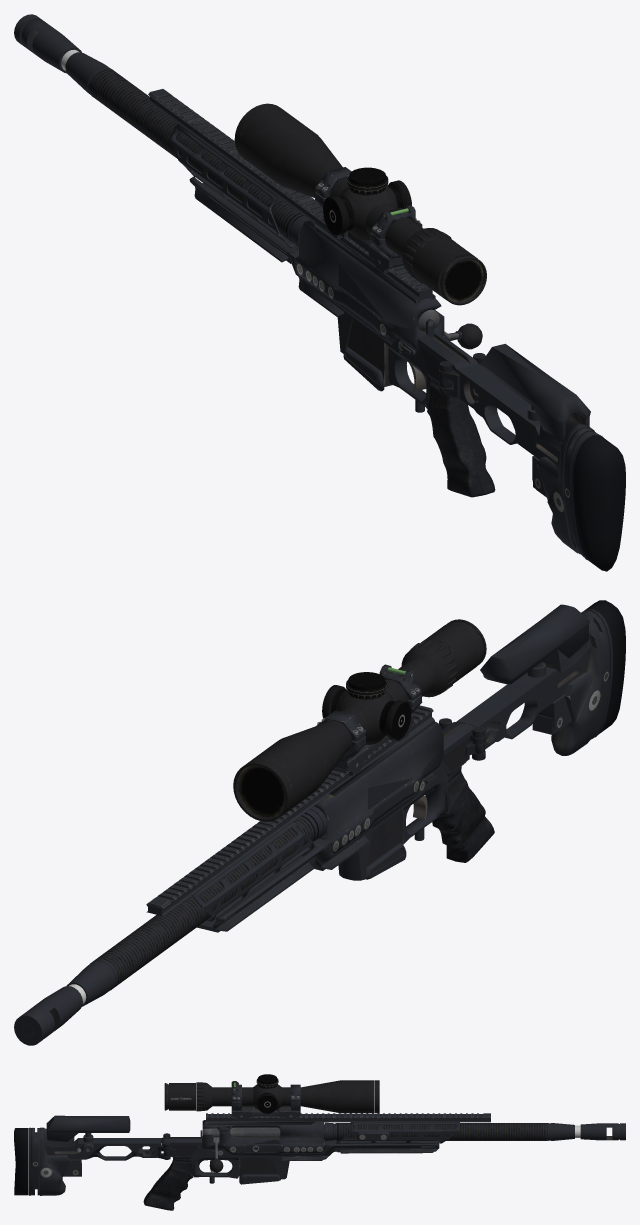
File: ultima_ratio.glb
3 views of the same model, one above another, from view 1: azimuth 30°, elevation 25°; view 2: azimuth 150°, elevation 25°; view 3: azimuth 270°, elevation 25° (orthographic). The views are drawn at different scales.
Parts seen in each view (by area): view 1: UR_Rifle, UR_Mag, UR_Bolt; view 2: UR_Rifle, UR_Mag; view 3: UR_Rifle, UR_Mag, UR_Bolt.
Boxes of the visible parts, x1,y1,x2,y2 form: UR_Rifle: [14, 14, 625, 571]; UR_Mag: [343, 320, 392, 391]; UR_Bolt: [418, 309, 482, 349]; UR_Rifle: [14, 600, 625, 1045]; UR_Mag: [363, 809, 406, 879]; UR_Rifle: [14, 1074, 625, 1210]; UR_Mag: [239, 1157, 280, 1184]; UR_Bolt: [200, 1127, 280, 1172].
Size of the model in its own units: 0.115 by 0.2702 by 1.15.
Materials: 6 (6 with a texture image).
